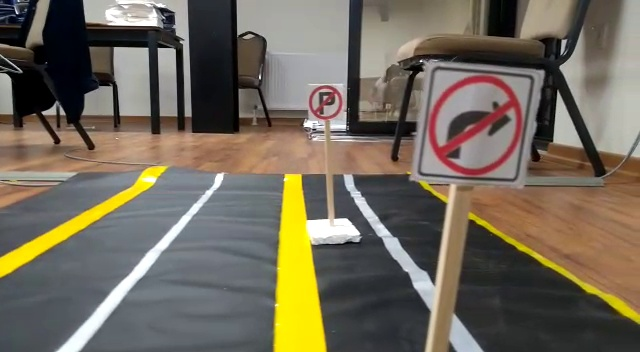park_yapilmaz: (308, 82, 345, 120)
saga_donulmez: (430, 70, 532, 178)
